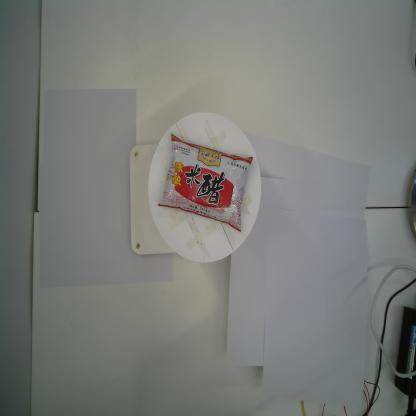Seasoner: (157, 131, 254, 235)
